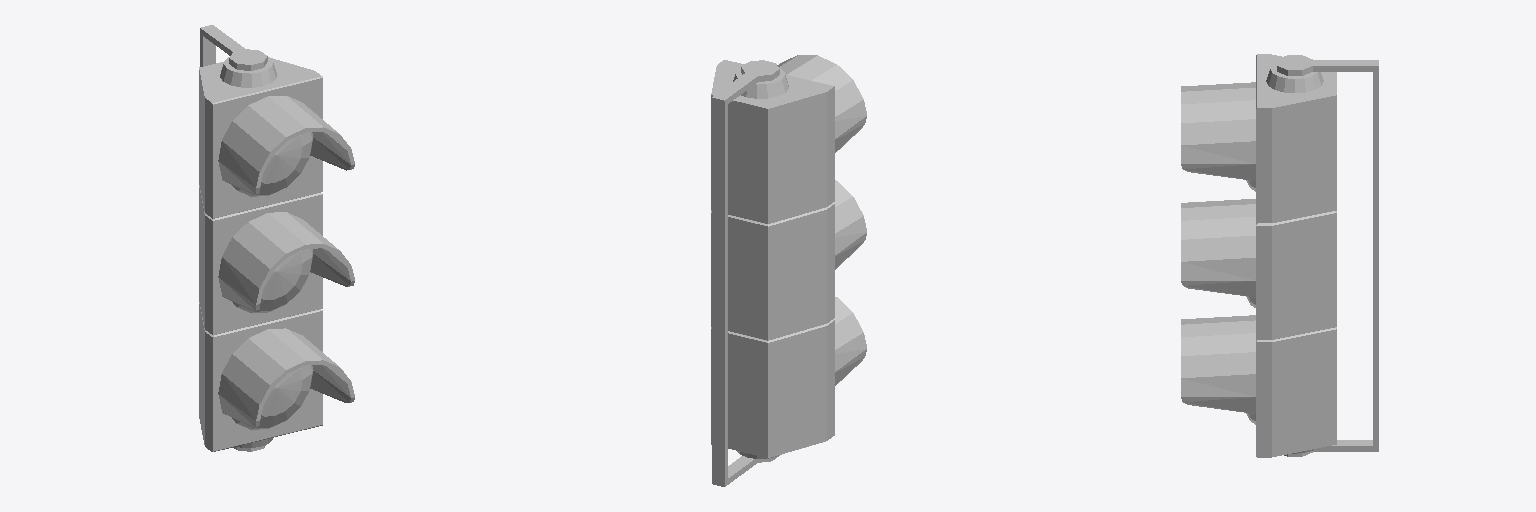
The model's file is ampel 3er.obj.
3 renders of one model, left to right at view 1: azimuth 30°, elevation 25°; view 2: azimuth 150°, elevation 25°; view 3: azimuth 270°, elevation 25°, orthographic.
Bounding box in the file's own units: 0.33 × 1.11 × 0.5161.